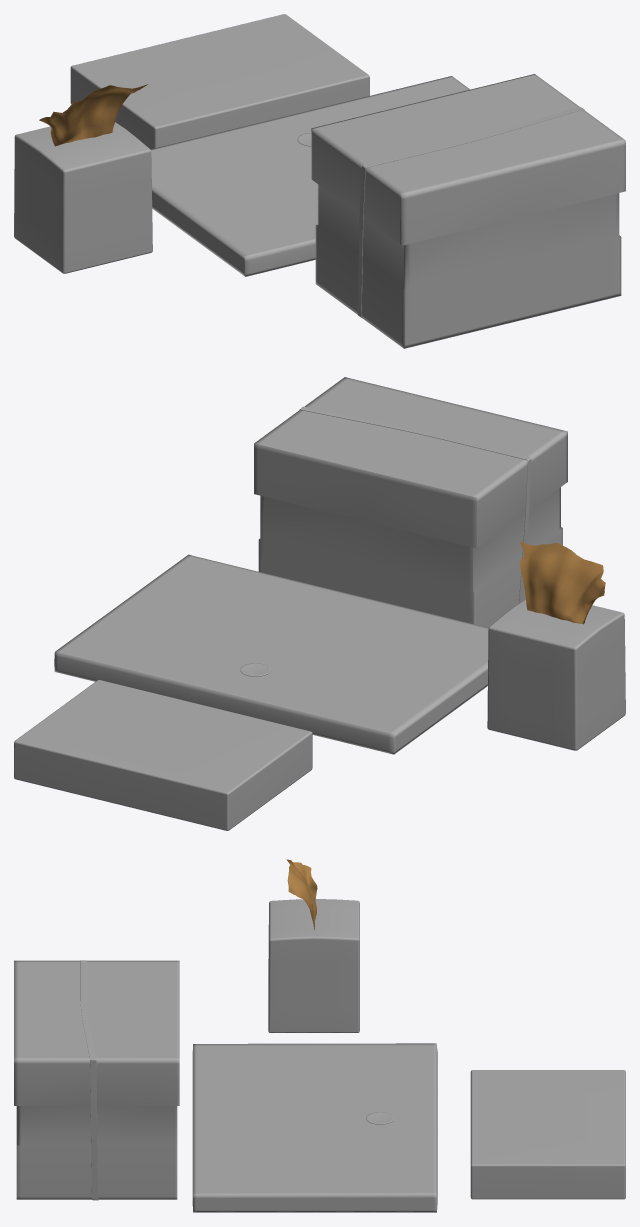
File: paperBoxes.fbx
3 renders of one model, top to bottom at view 1: azimuth 30°, elevation 25°; view 2: azimuth 150°, elevation 25°; view 3: azimuth 270°, elevation 25°, orthographic. The views are drawn at different scales.
Visible parts, largest first — view 1: C_paperBox_low, C_a4Paper_low, C_docHolder_low, C_tissuerBox_low; view 2: C_paperBox_low, C_docHolder_low, C_a4Paper_low, C_tissuerBox_low; view 3: C_docHolder_low, C_paperBox_low, C_a4Paper_low, C_tissuerBox_low.
Boxes of the visible parts, x1,y1,x2,y2 form: C_paperBox_low: (311,74,625,348); C_a4Paper_low: (70,14,369,149); C_docHolder_low: (150,76,469,276); C_tissuerBox_low: (14,84,152,273); C_paperBox_low: (254,377,567,627); C_docHolder_low: (54,554,488,754); C_a4Paper_low: (14,680,312,830); C_tissuerBox_low: (487,541,625,750); C_docHolder_low: (192,1043,437,1212); C_paperBox_low: (14,960,179,1200); C_a4Paper_low: (470,1070,625,1199); C_tissuerBox_low: (268,859,359,1032).
Size of the model in its own units: 69.61 by 26.26 by 84.18.
